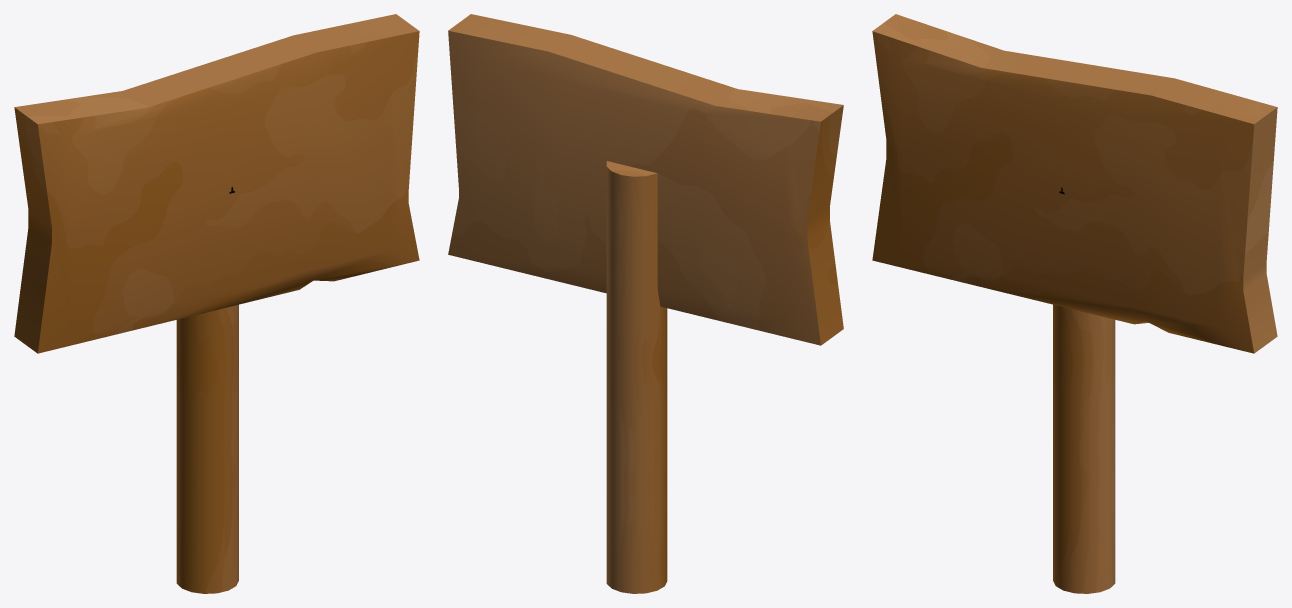
The model's file is Yerisareti.fbx.
3 views of the same model, side by side, from view 1: azimuth 30°, elevation 25°; view 2: azimuth 150°, elevation 25°; view 3: azimuth 330°, elevation 25° (orthographic). The views are drawn at different scales.
Parts seen in each view (by area): view 1: Circle; view 2: Circle; view 3: Circle.
Part boxes in pixels (box(x1,y1,x2,y2)): Circle: box(14, 14, 419, 593); Circle: box(448, 14, 843, 593); Circle: box(872, 14, 1277, 593).
Bounding box in the file's own units: 1.49 × 1.95 × 0.2668.
Materials: 1 (1 with a texture image).
